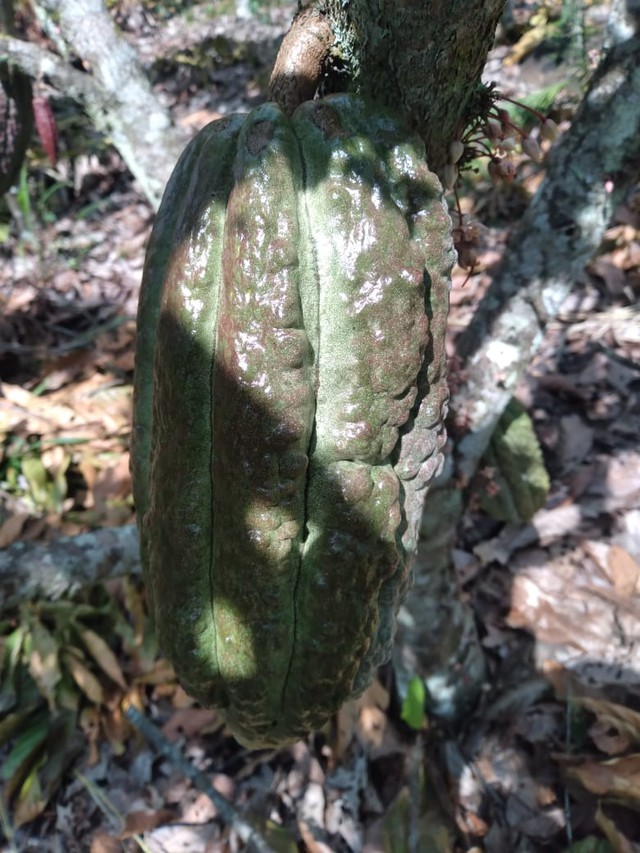Health: (110, 61, 485, 776)
